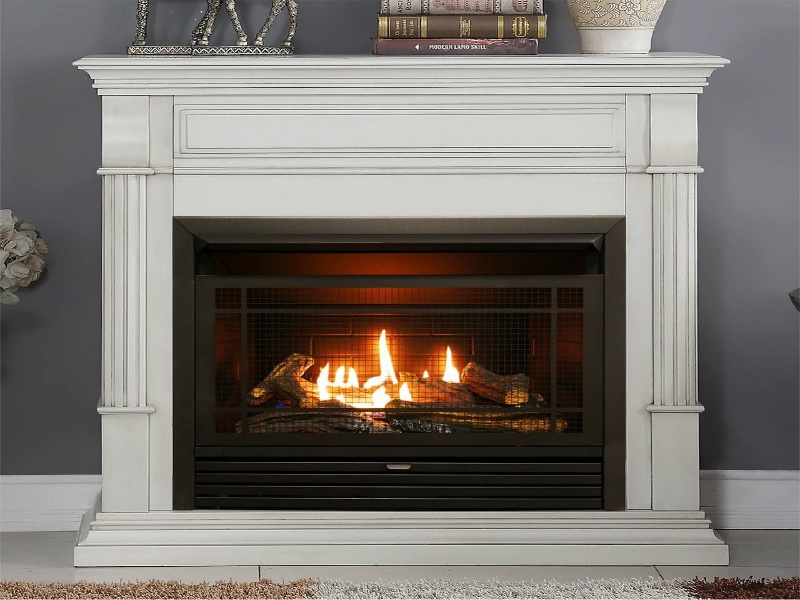fire: (307, 328, 465, 410)
